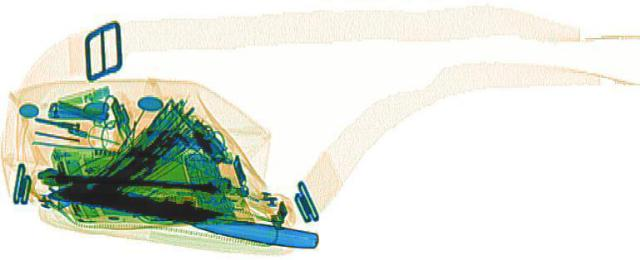Knife: (41, 181, 330, 250)
